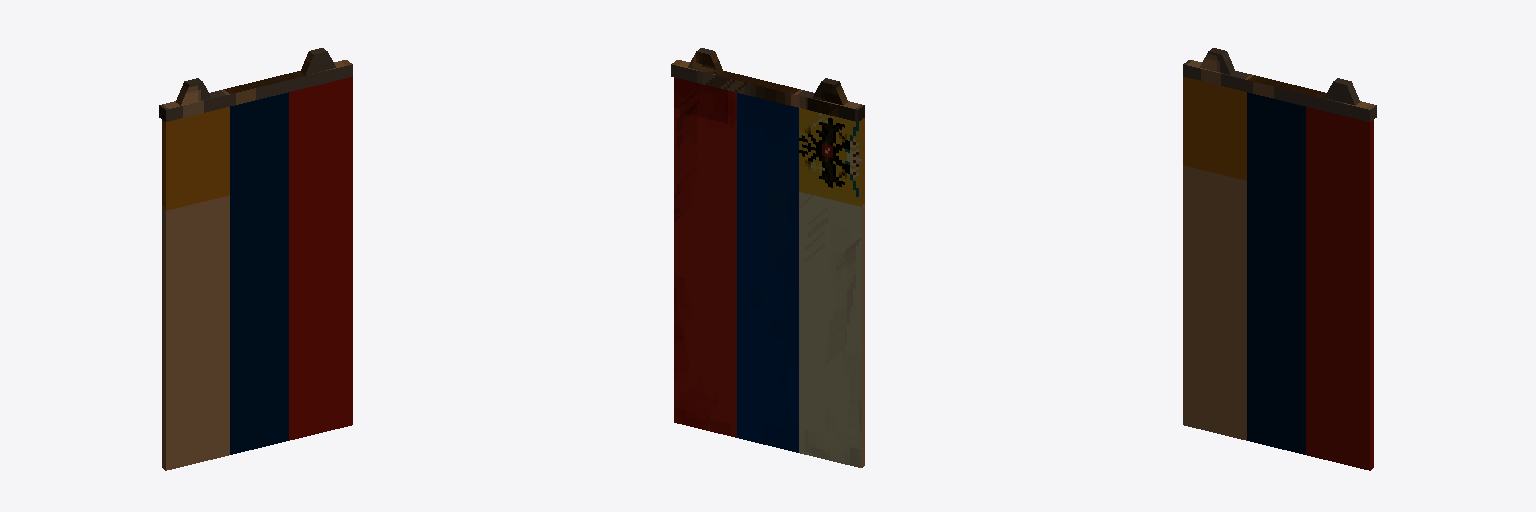
The picture shows the model from 3 angles: view 1: azimuth 30°, elevation 25°; view 2: azimuth 150°, elevation 25°; view 3: azimuth 330°, elevation 25°; orthographic projection.
Parts seen in each view (by area): view 1: cuboid; view 2: cuboid; view 3: cuboid.
Part boxes in pixels (left/top/right/bottom): cuboid: left=159, top=48, right=352, bottom=470; cuboid: left=671, top=48, right=864, bottom=467; cuboid: left=1183, top=48, right=1376, bottom=470.
Size of the model in its own units: 1 by 1.94 by 0.0625.
Materials: 1 (1 with a texture image).